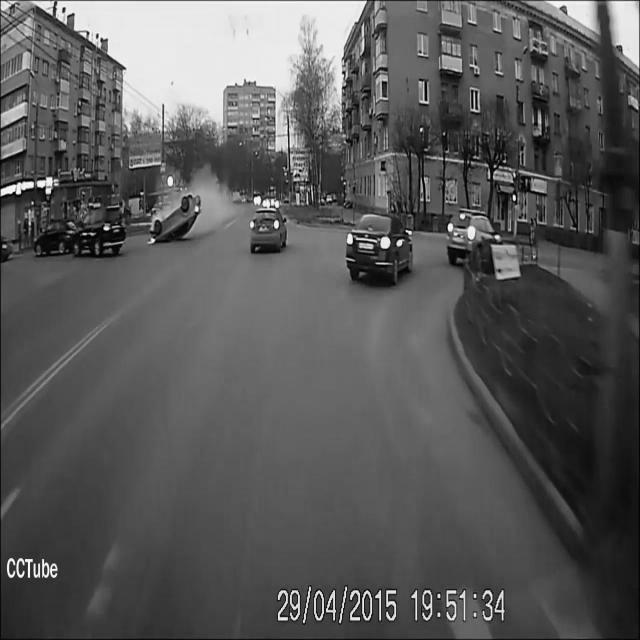accident: (147, 186, 204, 248)
vehicle: (347, 209, 415, 287), (445, 209, 501, 270), (71, 205, 127, 262), (34, 215, 80, 257), (249, 208, 287, 254)
